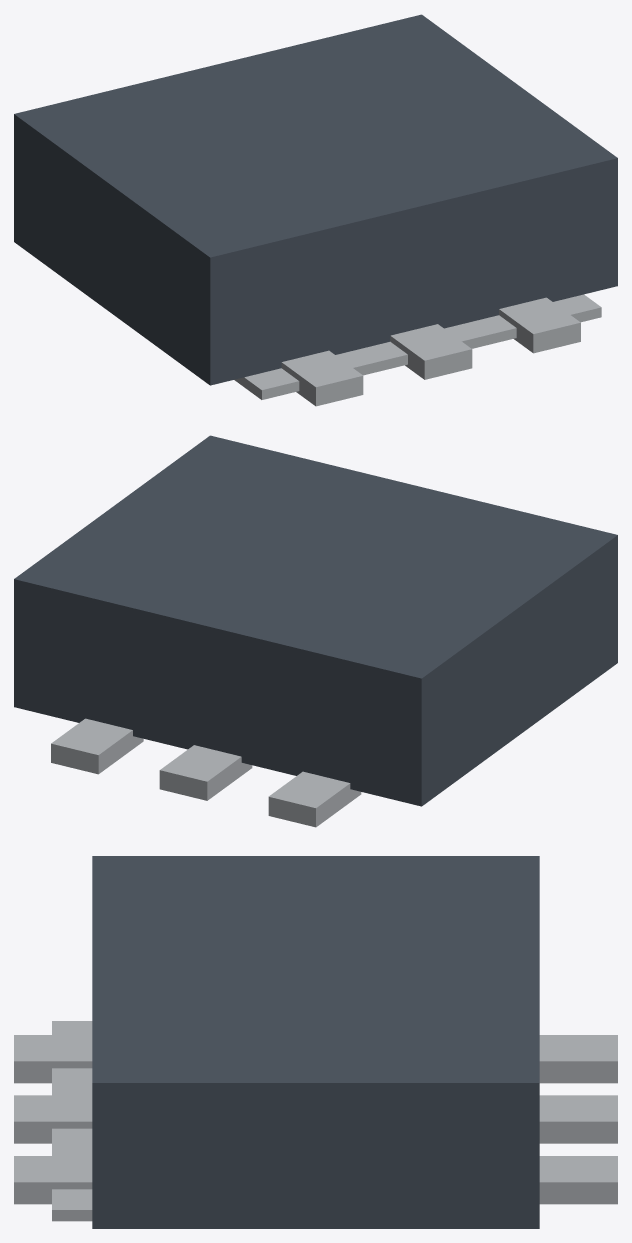
The picture shows the model from 3 angles, top to bottom: view 1: azimuth 30°, elevation 25°; view 2: azimuth 150°, elevation 25°; view 3: azimuth 270°, elevation 25°; orthographic projection. The views are drawn at different scales.
Parts seen in each view (by area): view 1: PowerMOSFET_Case, ExposedThermalTab, PowerLead_1_0, PowerLead_1_1, PowerLead_1_2; view 2: PowerMOSFET_Case, PowerLead_-1_0, PowerLead_-1_1, PowerLead_-1_2; view 3: PowerMOSFET_Case, ExposedThermalTab, PowerLead_-1_1, PowerLead_-1_0, PowerLead_-1_2, PowerLead_1_1, PowerLead_1_0, PowerLead_1_2.
Part boxes in pixels (x1,y1,x2,y2): PowerMOSFET_Case: (14,14,617,385); ExposedThermalTab: (234,294,601,399); PowerLead_1_0: (281,350,363,406); PowerLead_1_1: (390,324,472,379); PowerLead_1_2: (499,297,580,353); PowerMOSFET_Case: (14,435,617,806); PowerLead_-1_0: (268,771,361,827); PowerLead_-1_1: (159,745,252,800); PowerLead_-1_2: (51,718,143,774); PowerMOSFET_Case: (92,856,539,1228); ExposedThermalTab: (52,1021,92,1221); PowerLead_-1_1: (539,1095,617,1143); PowerLead_-1_0: (539,1035,617,1083); PowerLead_-1_2: (539,1156,617,1204); PowerLead_1_1: (14,1095,92,1143); PowerLead_1_0: (14,1035,92,1083); PowerLead_1_2: (14,1156,92,1204).
Bounding box in the file's own units: 0.006 × 0.00199 × 0.00675.
